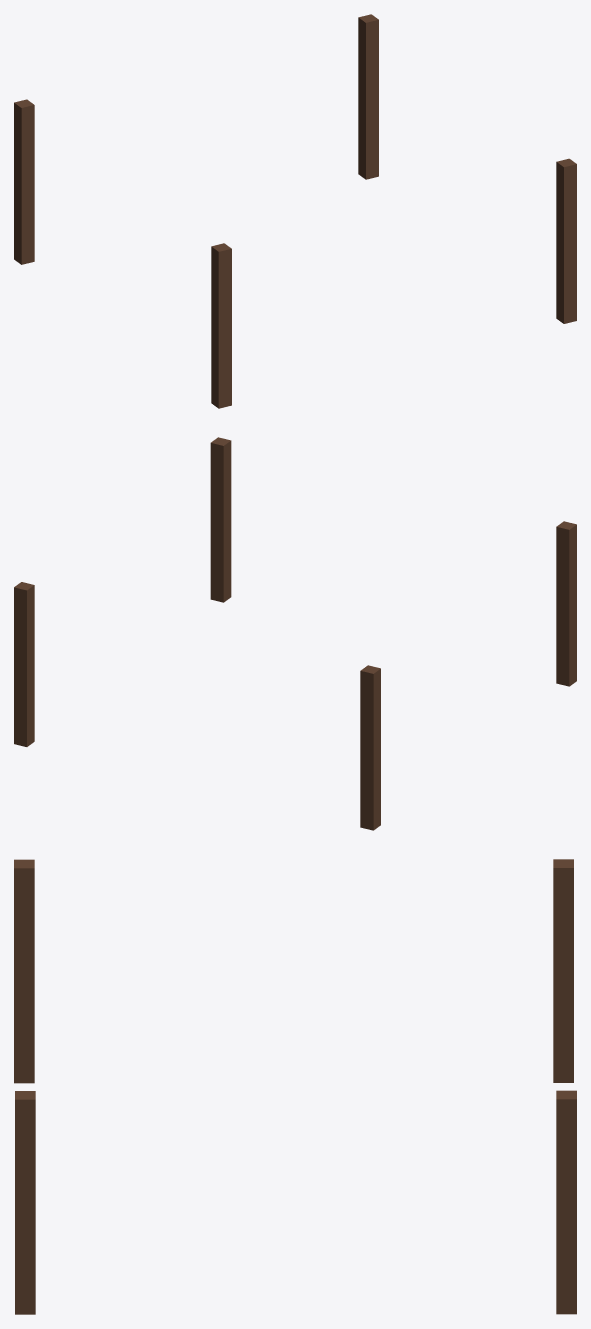
File: RoomEdgePillars.fbx
3 renders of one model, top to bottom at view 1: azimuth 30°, elevation 25°; view 2: azimuth 150°, elevation 25°; view 3: azimuth 270°, elevation 25°, orthographic. The views are drawn at different scales.
Parts seen in each view (by area): view 1: Cube.022, Cube.023, Cube.025, Cube.024; view 2: Cube.022, Cube.023, Cube.024, Cube.025; view 3: Cube.023, Cube.024, Cube.022, Cube.025.
Boxes of the visible parts, x1,y1,x2,y2 form: Cube.022: (556,158,576,323); Cube.023: (358,14,378,179); Cube.025: (14,99,34,264); Cube.024: (211,243,231,408); Cube.022: (210,437,231,602); Cube.023: (14,582,34,746); Cube.024: (556,521,576,686); Cube.025: (360,665,380,830); Cube.023: (556,1090,576,1314); Cube.024: (14,859,34,1083); Cube.022: (15,1091,35,1314); Cube.025: (553,859,573,1082).
Size of the model in its own units: 1440 by 601 by 1426.
